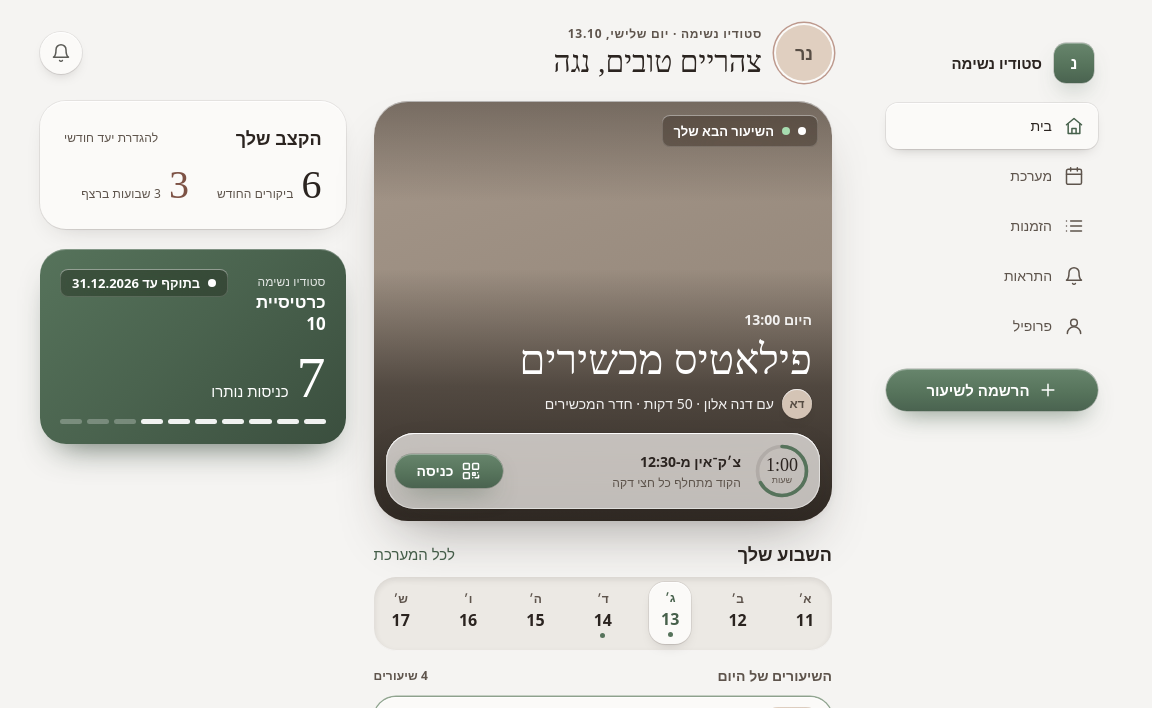
member home › lists the chosen day's classes that have not ended, and says why a day is empty
Expected: the element "השיעורים של היום" shows "4 שיעורים", [374,667,428,684]
Click the button named "17 באוקטובר" at [401, 614], box [380,583,422,645]
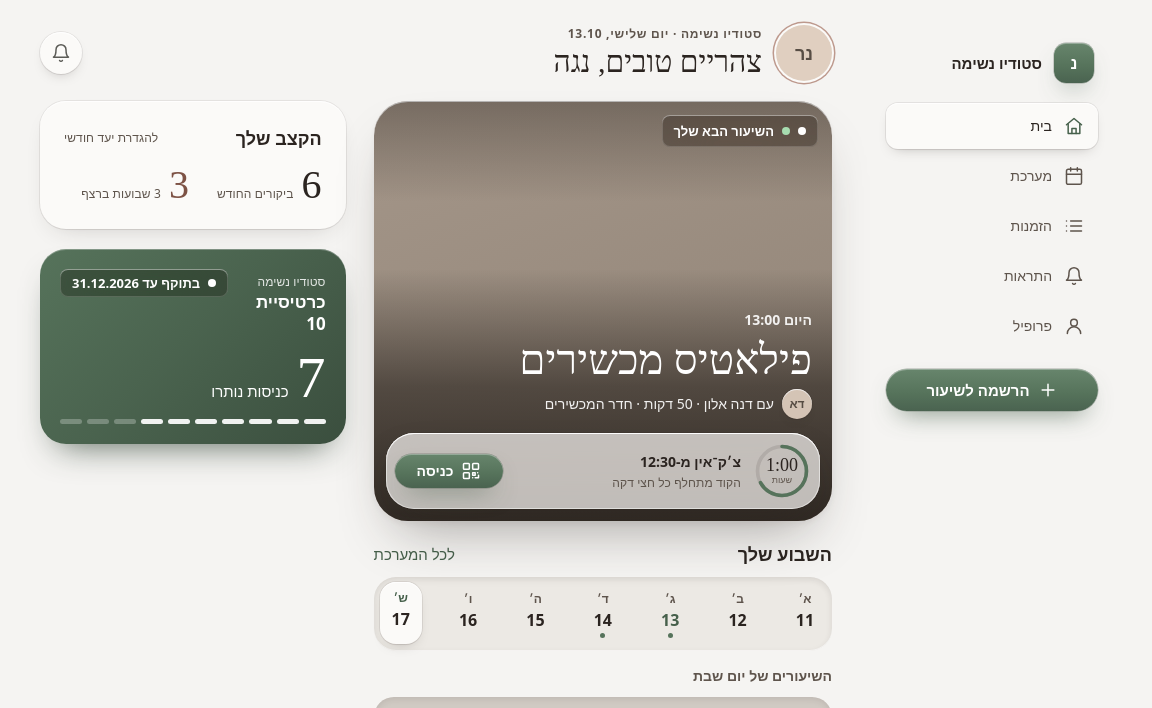
Click the button named "12 באוקטובר" at [738, 614], box [717,583,759,645]
(page scrolled)
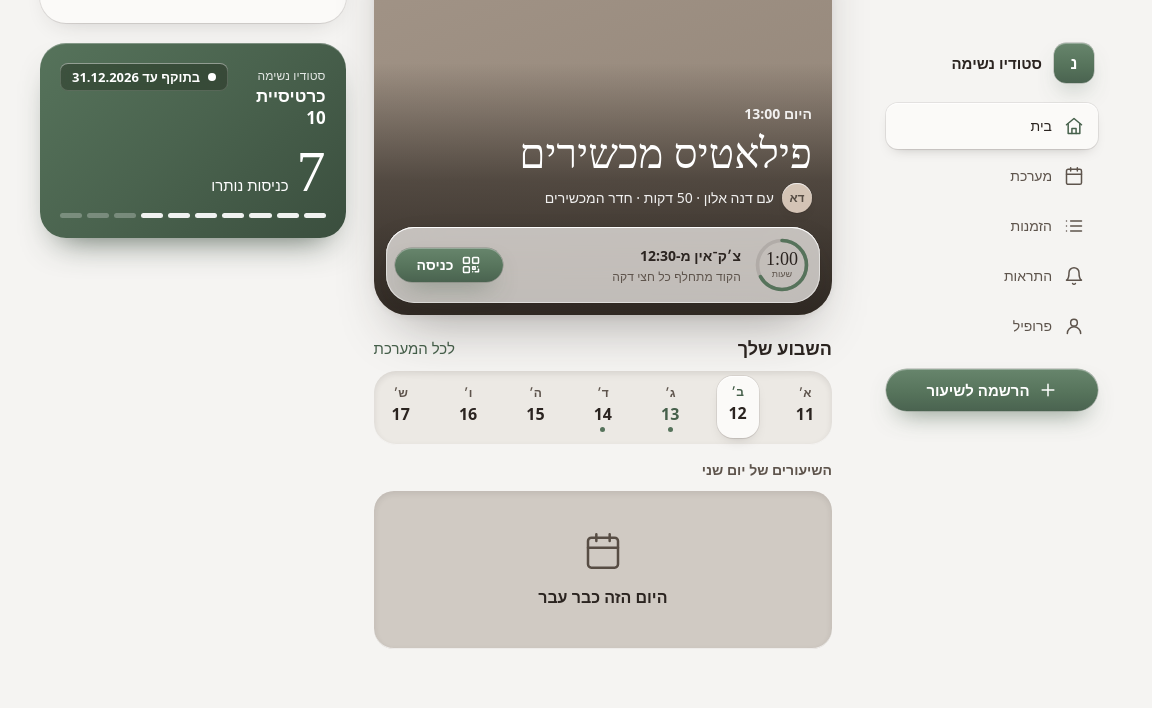
Expected: the text "היום הזה כבר עבר" is shown, [538,585,668,609]
